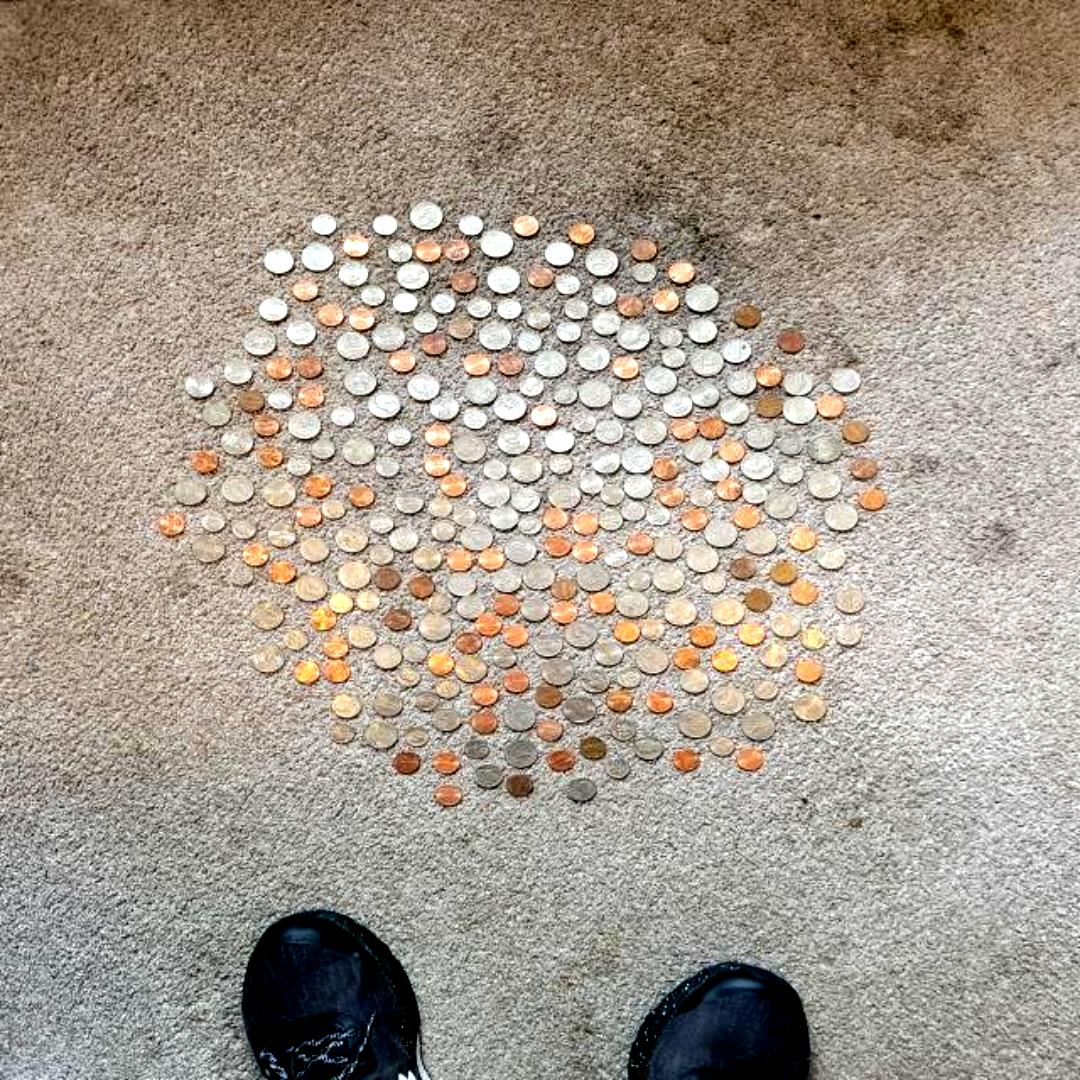Dime: (590, 284, 616, 306), (404, 727, 430, 747), (414, 691, 440, 711), (616, 668, 642, 688), (626, 570, 652, 590), (700, 572, 726, 592), (518, 515, 544, 535), (284, 629, 310, 649), (232, 518, 258, 538), (482, 460, 508, 480), (286, 455, 312, 475), (386, 426, 412, 446), (462, 409, 488, 429), (688, 487, 714, 507), (742, 484, 768, 504), (778, 463, 804, 483), (632, 263, 658, 283), (516, 332, 542, 352), (466, 297, 492, 317), (392, 294, 418, 314), (330, 723, 356, 743), (836, 624, 860, 645), (493, 647, 518, 667), (644, 506, 669, 526), (431, 522, 456, 542), (659, 328, 684, 348), (557, 322, 582, 342), (431, 294, 456, 314), (396, 667, 420, 687), (612, 720, 636, 740), (606, 759, 630, 779), (710, 735, 734, 755), (604, 547, 628, 567), (600, 510, 624, 530), (356, 592, 380, 612), (428, 594, 452, 614), (330, 593, 354, 613), (230, 565, 254, 585), (202, 511, 226, 531), (600, 484, 624, 504), (552, 384, 576, 404), (520, 376, 544, 396), (660, 349, 684, 369), (564, 299, 588, 319), (556, 274, 580, 294), (360, 285, 384, 305), (388, 242, 412, 262), (460, 215, 484, 235), (548, 454, 572, 474), (464, 740, 490, 758), (496, 301, 522, 319), (374, 215, 397, 235), (754, 680, 777, 700), (622, 501, 645, 521), (428, 497, 451, 517), (580, 473, 603, 493), (311, 439, 334, 459), (436, 678, 459, 698), (453, 507, 478, 525), (369, 514, 394, 532), (404, 642, 426, 662), (802, 630, 824, 650), (370, 544, 392, 564), (322, 498, 344, 518), (376, 457, 398, 477), (332, 406, 354, 426), (268, 389, 290, 409), (780, 436, 802, 456), (526, 309, 548, 329), (414, 313, 438, 331), (312, 215, 336, 233), (573, 413, 596, 431)
Nickel: (455, 594, 487, 620), (725, 370, 757, 396), (258, 296, 288, 322), (688, 318, 718, 344), (722, 338, 752, 364), (783, 370, 813, 396), (431, 706, 461, 732), (473, 762, 503, 788), (817, 544, 847, 570), (744, 424, 774, 450), (595, 418, 625, 444), (612, 394, 642, 419), (287, 320, 315, 346), (683, 438, 711, 464), (414, 546, 442, 572), (223, 360, 253, 384), (339, 262, 369, 286), (544, 242, 574, 266), (489, 506, 519, 530), (511, 488, 541, 512), (593, 642, 623, 666), (653, 536, 683, 560), (544, 428, 574, 451), (566, 777, 596, 800), (720, 400, 748, 424), (390, 528, 418, 552), (349, 624, 377, 648), (333, 694, 361, 718), (372, 644, 400, 668), (448, 572, 476, 596), (521, 596, 549, 620), (581, 668, 609, 692), (680, 670, 708, 694), (634, 736, 662, 760), (591, 312, 621, 334), (830, 370, 860, 392), (663, 394, 693, 416), (533, 634, 563, 656), (835, 590, 865, 612), (771, 614, 801, 636), (265, 250, 293, 273), (701, 458, 729, 481), (592, 450, 620, 473), (430, 396, 458, 419), (186, 374, 214, 397), (301, 538, 331, 559), (691, 384, 719, 406), (624, 476, 652, 498), (395, 490, 423, 512), (268, 524, 296, 546), (203, 402, 231, 424), (374, 694, 402, 716), (493, 570, 521, 590), (760, 646, 788, 666)
Penny: (572, 538, 598, 564), (606, 688, 632, 712), (297, 386, 325, 408), (302, 474, 330, 496), (659, 484, 684, 508), (734, 304, 760, 327), (796, 660, 822, 683), (415, 240, 442, 262), (502, 624, 530, 645), (470, 712, 498, 733), (450, 272, 476, 294), (652, 290, 678, 312), (670, 418, 696, 440), (530, 404, 556, 426), (652, 458, 678, 480), (770, 562, 796, 584), (268, 562, 294, 584), (506, 774, 532, 796), (668, 262, 694, 284), (698, 418, 725, 439), (681, 509, 708, 530), (192, 451, 219, 472), (728, 559, 755, 580), (736, 748, 763, 769), (737, 624, 765, 644), (672, 648, 700, 668), (240, 544, 268, 564), (672, 750, 700, 770), (266, 356, 290, 379), (542, 508, 567, 530), (255, 414, 280, 436), (478, 548, 503, 570), (318, 305, 344, 326), (348, 309, 374, 330), (448, 317, 474, 338), (464, 353, 490, 374), (778, 331, 804, 352), (756, 397, 782, 418), (238, 392, 264, 413), (852, 458, 878, 479), (626, 533, 652, 554), (446, 551, 472, 572), (384, 609, 410, 630), (472, 684, 498, 705), (536, 720, 562, 741), (422, 334, 446, 356), (390, 350, 414, 372), (756, 364, 780, 386), (718, 478, 742, 500), (736, 506, 760, 528), (296, 356, 320, 378), (790, 528, 814, 550), (712, 650, 736, 672), (374, 568, 398, 590), (410, 576, 434, 598), (158, 514, 182, 536), (434, 752, 458, 774), (292, 280, 317, 301), (790, 582, 815, 603), (310, 609, 335, 630), (630, 240, 656, 260), (342, 236, 368, 256), (498, 354, 524, 374), (528, 267, 554, 287), (424, 456, 450, 476), (348, 486, 374, 506), (816, 397, 842, 417), (614, 622, 640, 642), (544, 536, 570, 556), (296, 506, 322, 526), (476, 614, 502, 634), (324, 662, 350, 682), (294, 662, 320, 682), (428, 654, 454, 674), (548, 750, 574, 770), (646, 692, 672, 712), (614, 357, 638, 378), (844, 422, 868, 443), (552, 579, 576, 600), (552, 602, 576, 623), (436, 785, 460, 806), (746, 590, 771, 610), (394, 752, 419, 772), (442, 474, 464, 496), (617, 295, 640, 316), (570, 224, 594, 244), (514, 216, 538, 236), (444, 240, 468, 260), (720, 441, 744, 461), (574, 514, 598, 534), (258, 446, 282, 466), (860, 490, 884, 510), (690, 626, 714, 646), (590, 592, 614, 612), (494, 594, 518, 614), (456, 633, 480, 653), (324, 638, 348, 658), (504, 672, 528, 692), (580, 738, 604, 758), (536, 686, 560, 706), (426, 426, 448, 447), (642, 620, 664, 640)
Quarter: (806, 472, 842, 500), (807, 434, 842, 462), (791, 694, 828, 720), (452, 434, 486, 462), (464, 378, 498, 406), (372, 324, 406, 352), (460, 524, 494, 552), (522, 562, 556, 590), (562, 696, 598, 722), (222, 475, 255, 503), (342, 437, 376, 464), (288, 412, 322, 439), (250, 603, 284, 630), (294, 574, 328, 601), (454, 654, 488, 681), (302, 243, 334, 271), (410, 202, 442, 230), (480, 230, 512, 258), (488, 266, 520, 294), (586, 248, 618, 276), (580, 380, 612, 408), (622, 447, 654, 475), (535, 350, 567, 378), (397, 262, 429, 290), (192, 534, 224, 562), (338, 561, 370, 589), (510, 454, 542, 482), (764, 491, 796, 519), (784, 396, 816, 424), (712, 686, 744, 714), (576, 565, 609, 592), (664, 598, 697, 625), (824, 503, 857, 530), (368, 392, 402, 418), (242, 330, 276, 356), (220, 428, 254, 454), (418, 614, 452, 640), (502, 704, 536, 730), (504, 740, 538, 766), (364, 722, 398, 748), (692, 350, 724, 377), (618, 324, 650, 351), (478, 324, 510, 351), (337, 331, 369, 358), (174, 477, 206, 504), (548, 481, 580, 508), (564, 620, 596, 647), (652, 565, 684, 592), (711, 598, 743, 625), (678, 711, 710, 738), (636, 647, 668, 674), (576, 344, 609, 370), (336, 526, 369, 552), (617, 590, 650, 616), (705, 520, 738, 546), (687, 284, 717, 312), (645, 367, 675, 395), (635, 418, 667, 444), (498, 428, 530, 454), (408, 374, 440, 400), (262, 480, 294, 506), (505, 536, 537, 562), (686, 546, 718, 572), (744, 528, 776, 554), (741, 454, 773, 480), (542, 658, 574, 684), (252, 646, 284, 672), (344, 369, 376, 394), (494, 394, 526, 419), (742, 714, 775, 738), (478, 482, 510, 506)
